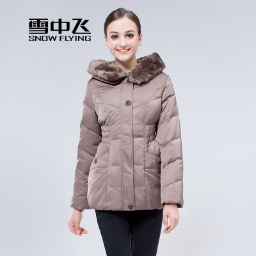face: (101, 7, 147, 64)
